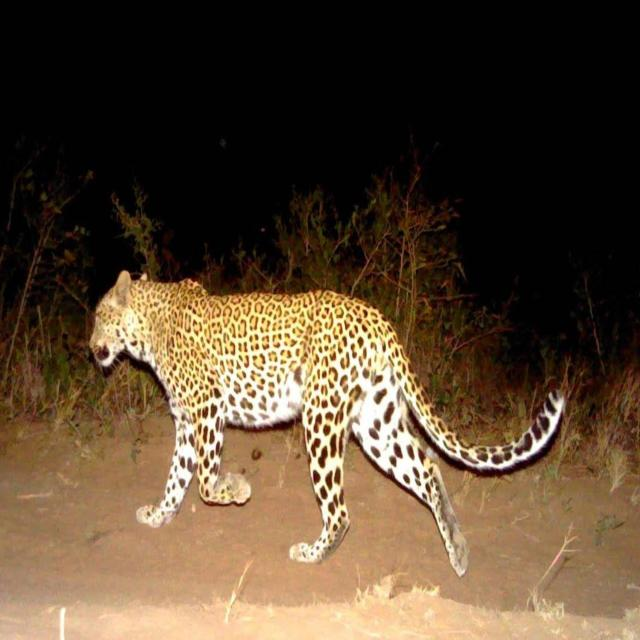Leopard: (80, 276, 580, 574)
